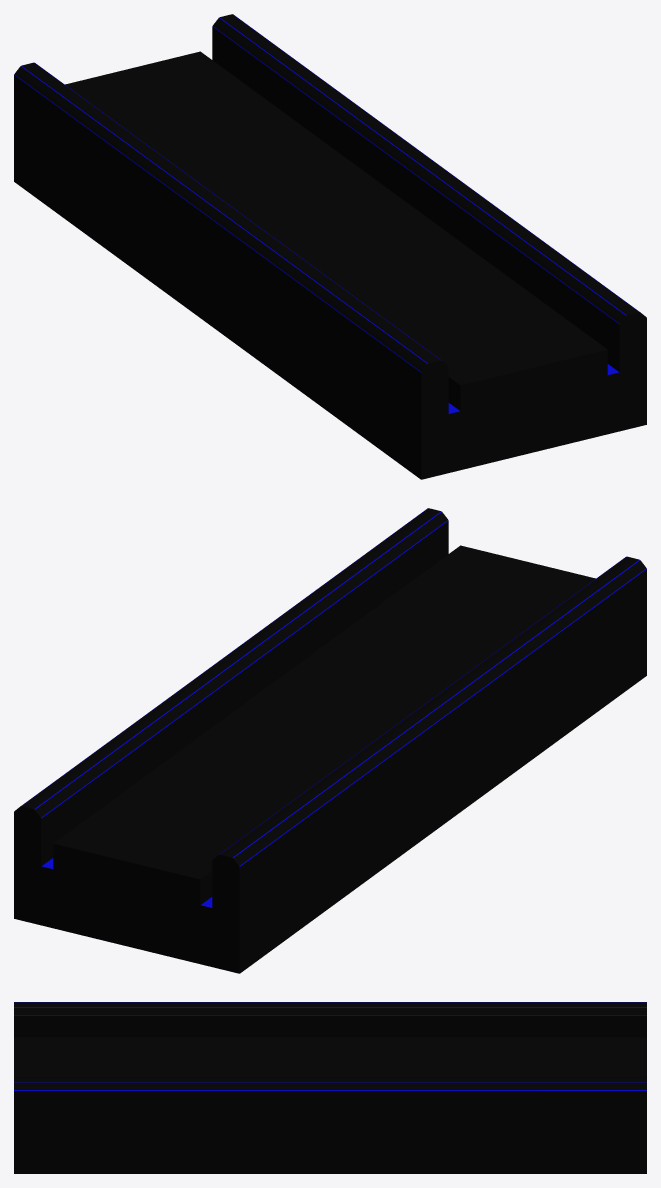
The model's file is Plataforma 1.fbx.
3 renders of one model, top to bottom at view 1: azimuth 30°, elevation 25°; view 2: azimuth 150°, elevation 25°; view 3: azimuth 270°, elevation 25°, orthographic. The views are drawn at different scales.
Visible parts, largest first — view 1: Plataforma_1; view 2: Plataforma_1; view 3: Plataforma_1.
Part boxes in pixels (box(x1,y1,x2,y2)): Plataforma_1: box(14, 14, 646, 479); Plataforma_1: box(14, 508, 646, 973); Plataforma_1: box(14, 1002, 646, 1173).
Size of the model in its own units: 4 by 1.94 by 12.5.
